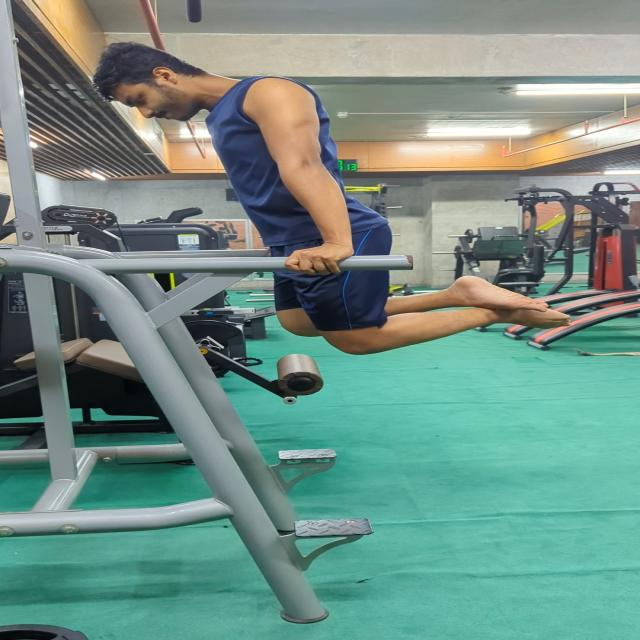Normal_Dips: (86, 32, 575, 360)
